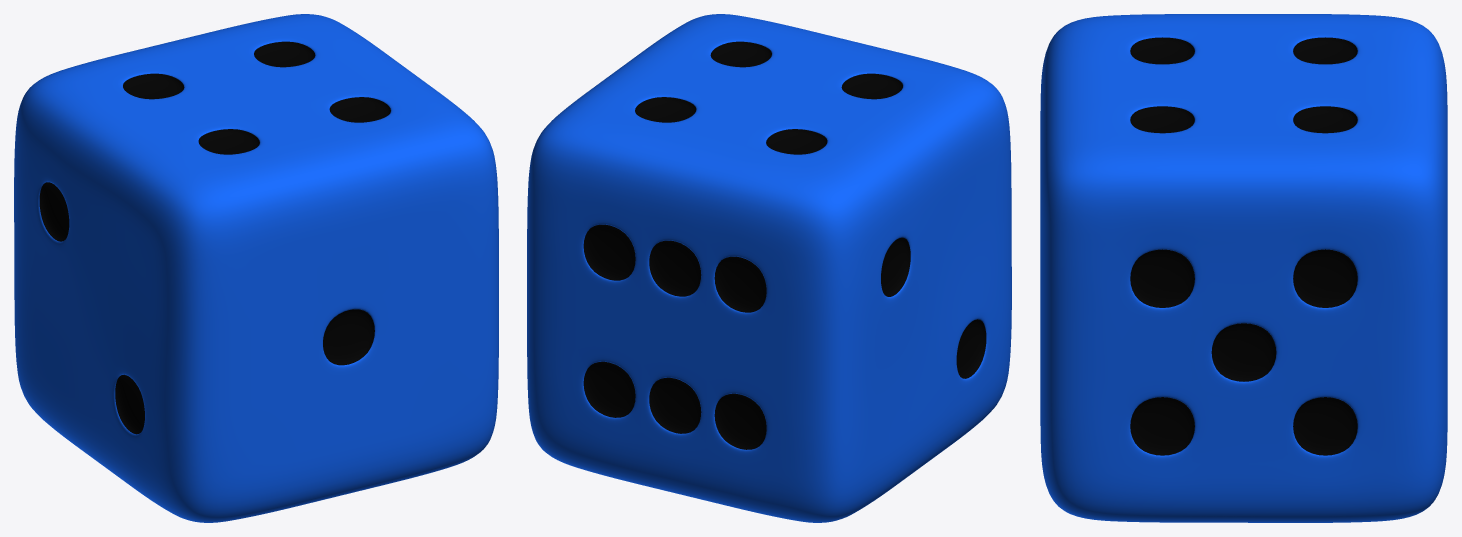
Rendered from default_dice_model.glb.
3 views of the same model, side by side, from view 1: azimuth 30°, elevation 25°; view 2: azimuth 150°, elevation 25°; view 3: azimuth 270°, elevation 25° (orthographic). The views are drawn at different scales.
Visible parts, largest first — view 1: Cube_0, Cube_1; view 2: Cube_0, Cube_1; view 3: Cube_0, Cube_1.
Part boxes in pixels (x1,y1,x2,y2): Cube_0: (14, 14, 498, 522); Cube_1: (39, 41, 390, 434); Cube_0: (527, 14, 1011, 522); Cube_1: (583, 41, 986, 449); Cube_0: (1040, 14, 1447, 522); Cube_1: (1130, 37, 1357, 455).
Bounding box in the file's own units: 2 × 2 × 2.
